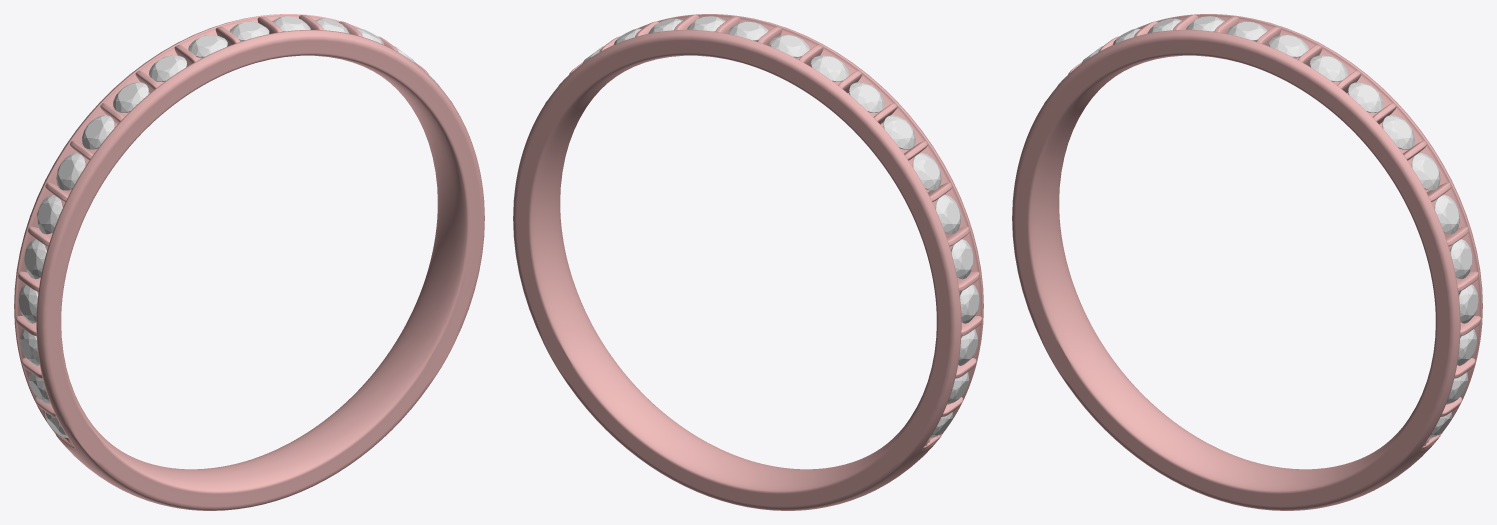
The model's file is CHANNEL.glb.
The picture shows the model from 3 angles, left to right: view 1: azimuth 30°, elevation 25°; view 2: azimuth 150°, elevation 25°; view 3: azimuth 330°, elevation 25°; orthographic projection.
Parts seen in each view (by area): view 1: metal.003, diamond.003; view 2: metal.003, diamond.003; view 3: metal.003, diamond.003.
Part boxes in pixels (x1,y1,x2,y2): metal.003: (14, 14, 484, 510); diamond.003: (18, 16, 439, 438); metal.003: (513, 14, 983, 510); diamond.003: (558, 16, 979, 438); metal.003: (1012, 14, 1482, 510); diamond.003: (1057, 16, 1478, 438).
Bounding box in the file's own units: 15.64 × 15.66 × 1.8.
